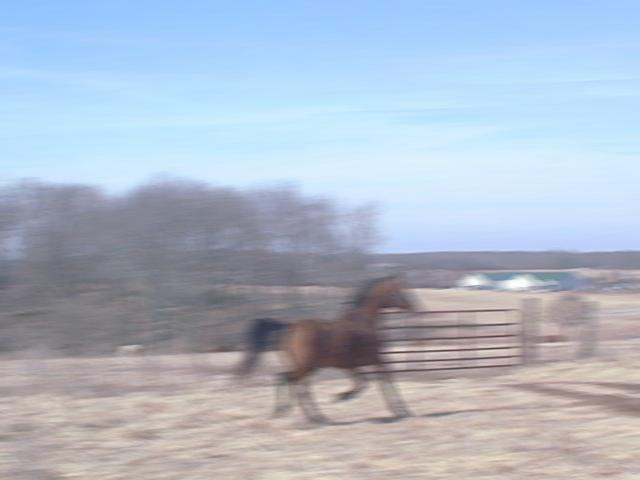horse: (221, 270, 423, 425)
